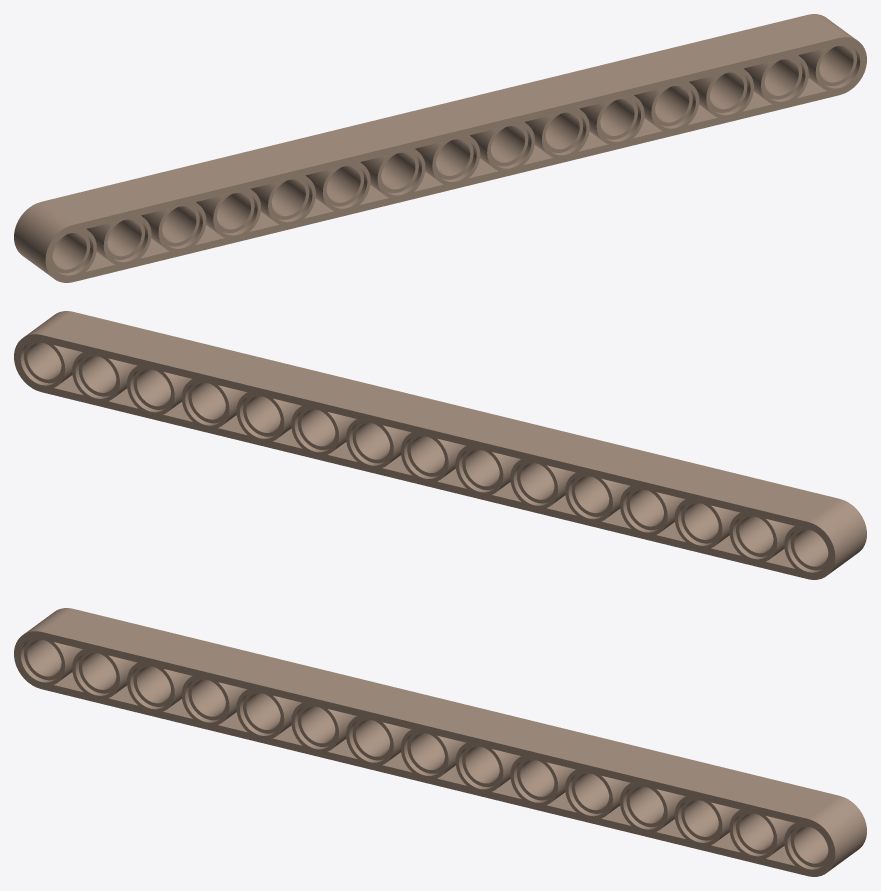
Rendered from 15M Beam.glb.
3 views of the same model, one above another, from view 1: azimuth 30°, elevation 25°; view 2: azimuth 150°, elevation 25°; view 3: azimuth 330°, elevation 25° (orthographic).
Visible parts, largest first — view 1: 15M Beam.ipt; view 2: 15M Beam.ipt; view 3: 15M Beam.ipt.
Boxes of the visible parts, box(x1,y1,x2,y2) form: 15M Beam.ipt: box(14, 14, 866, 282); 15M Beam.ipt: box(14, 311, 866, 579); 15M Beam.ipt: box(14, 608, 866, 876).
Size of the model in its own units: 0.12 by 0.008 by 0.008.
